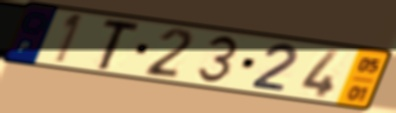1: (53, 12, 87, 67)
2: (141, 27, 196, 80), (248, 41, 300, 97)
3: (192, 33, 242, 86)
4: (298, 48, 343, 100)
T: (94, 18, 144, 72)
